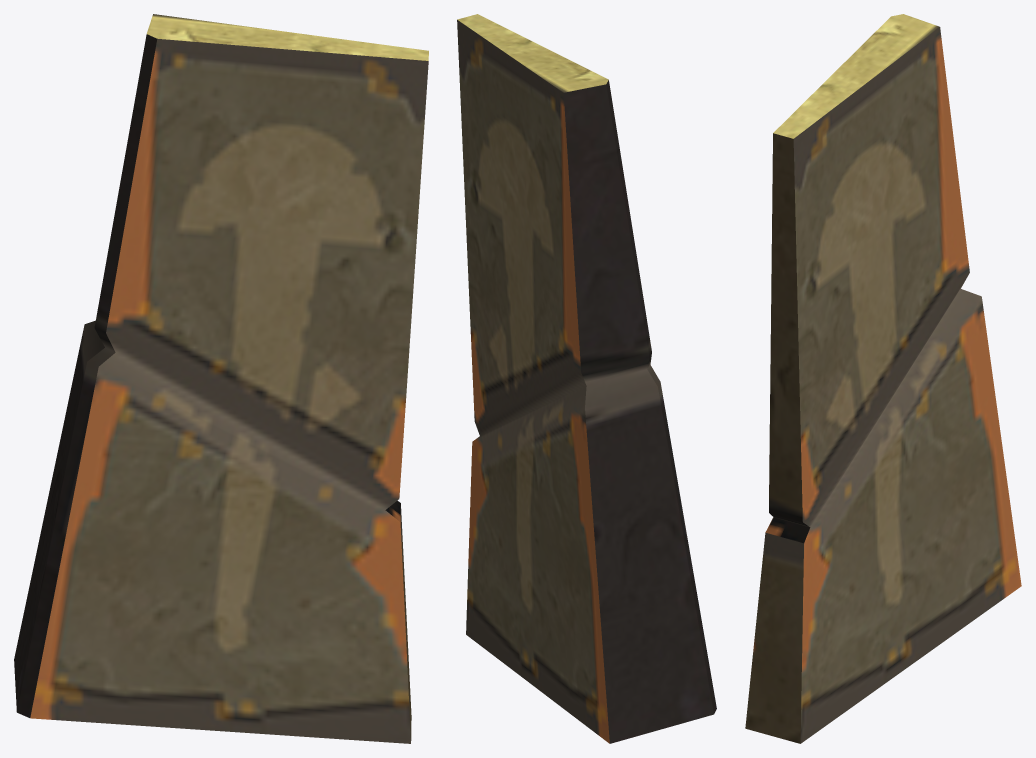
File: Desert_Item_0.fbx
The picture shows the model from 3 angles, left to right: view 1: azimuth 30°, elevation 25°; view 2: azimuth 150°, elevation 25°; view 3: azimuth 270°, elevation 25°; orthographic projection. The views are drawn at different scales.
Visible parts, largest first — view 1: Desert_Item_0; view 2: Desert_Item_0; view 3: Desert_Item_0.
Part boxes in pixels (x1,y1,x2,y2): Desert_Item_0: (14,14,428,743); Desert_Item_0: (457,14,716,743); Desert_Item_0: (745,14,1021,743).
Bounding box in the file's own units: 2.37 × 4.53 × 1.78.
1 material, 1 textured.
